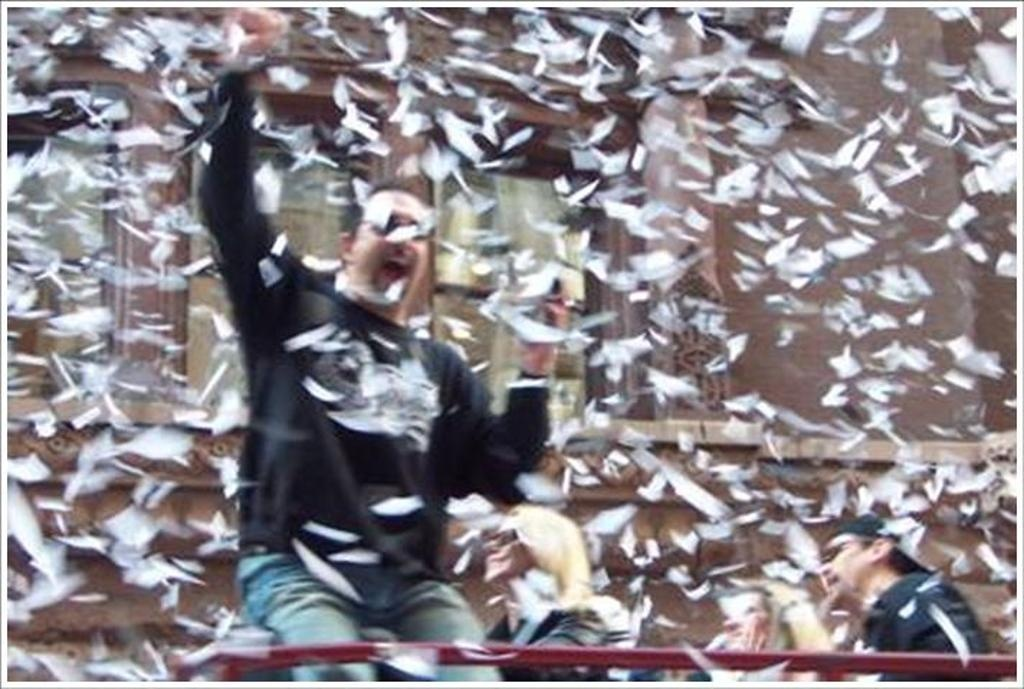human_face: (349, 192, 429, 310), (482, 510, 536, 584), (822, 534, 872, 604), (722, 594, 778, 654)
